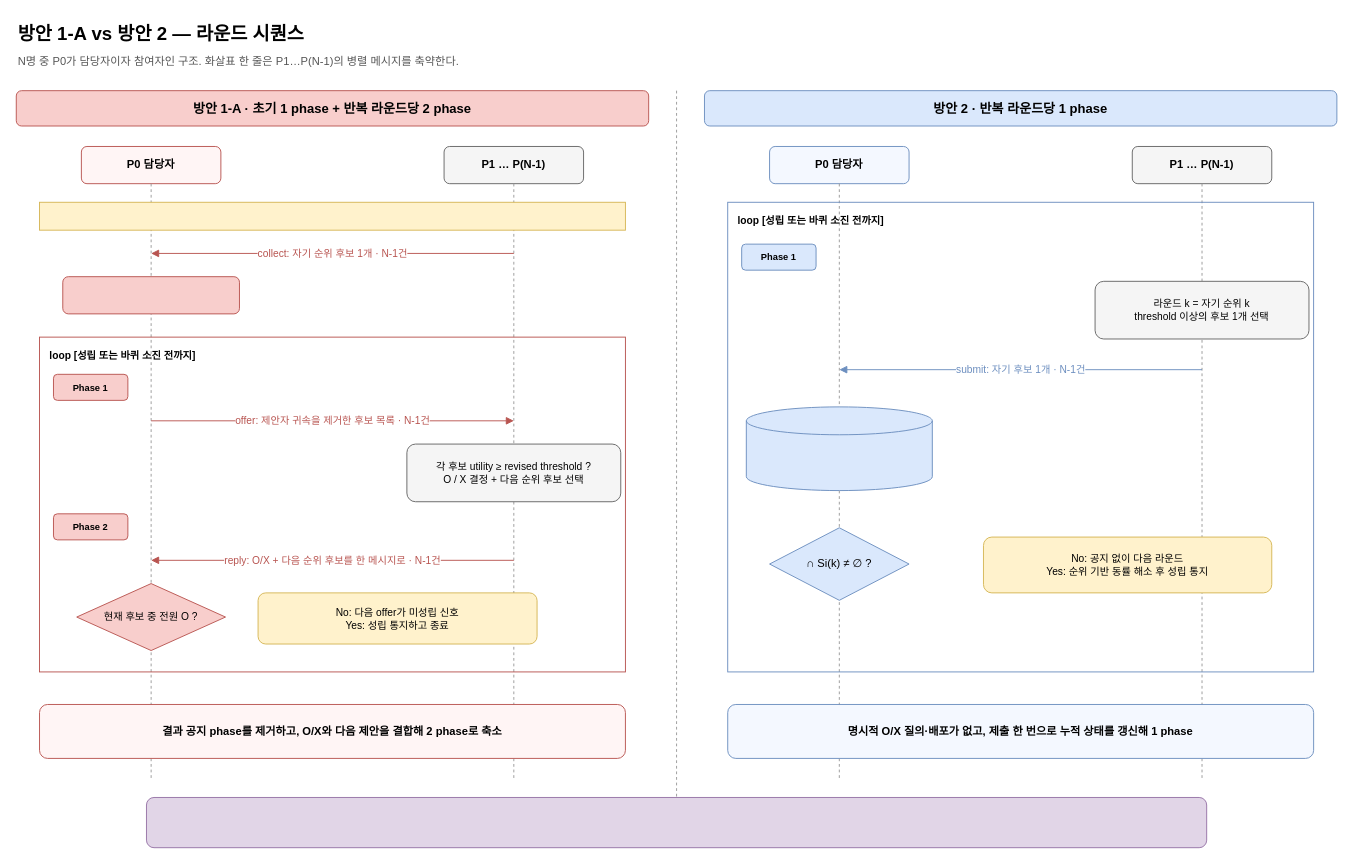
The diagram is 1353 pixels wide and 864 high, and some of its shapes have lost their labels. Each missing label, with the box of its shape:
P0 로컬 처리 Si(k) = Si(k-1) ∪ {이번 후보} 제출 라운드 = 참여자의 순위: (745, 406, 932, 491)
시간적 핵심 │ 1-A는 ‘묻고 답하는’ 왕복이 매 라운드 필요하고, 2는 ‘제출하고 누적하는’ 단방향 흐름이다.: (146, 797, 1207, 848)
초기 수집 · 바퀴 시작 1회: (39, 201, 625, 230)
현재 후보 목록 C1 생성: (62, 276, 239, 314)
